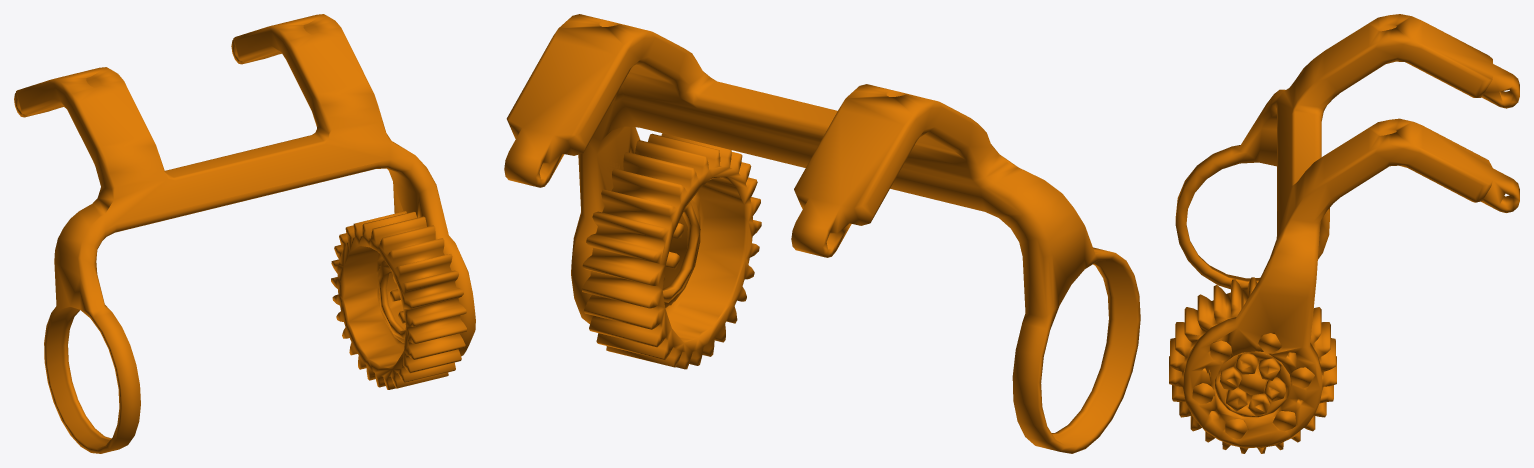
Rendered from gripper_motor_double.glb.
The picture shows the model from 3 angles, left to right: view 1: azimuth 30°, elevation 25°; view 2: azimuth 150°, elevation 25°; view 3: azimuth 270°, elevation 25°; orthographic projection. The views are drawn at different scales.
Visible parts, largest first — view 1: node; view 2: node; view 3: node.
Boxes of the visible parts, box(x1,y1,x2,y2) form: node: box(14, 14, 475, 453); node: box(504, 14, 1140, 453); node: box(1169, 14, 1519, 453).
Size of the model in its own units: 0.1056 by 0.0859 by 0.0908.
